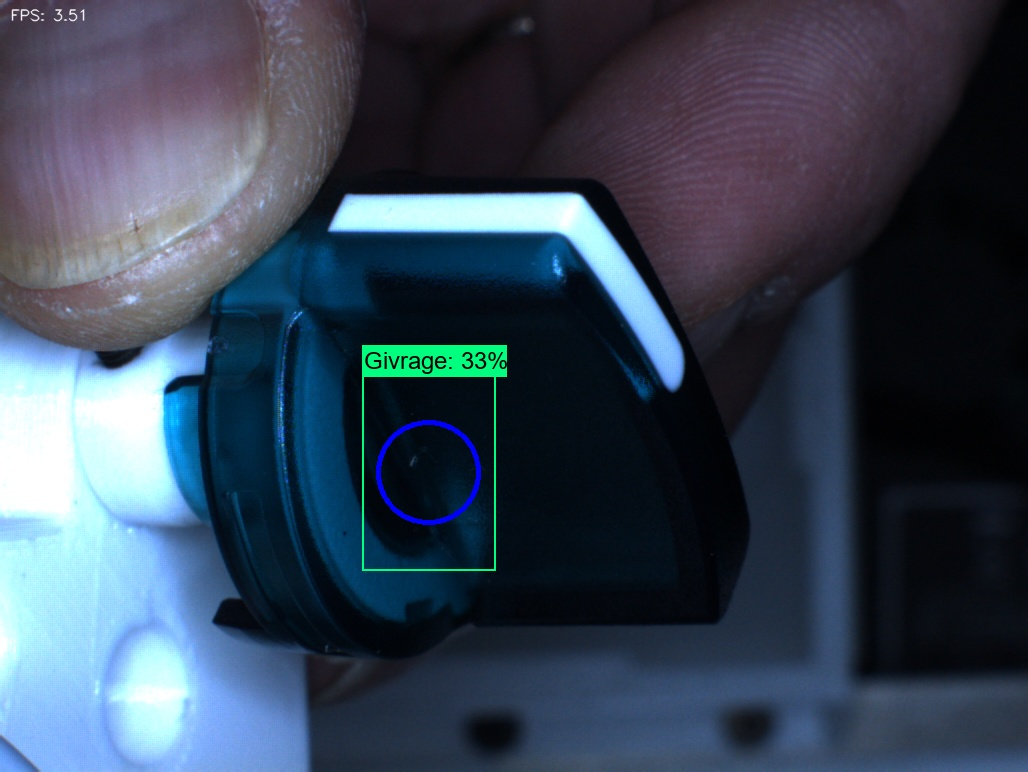PointNoir: (309, 506, 382, 568)
